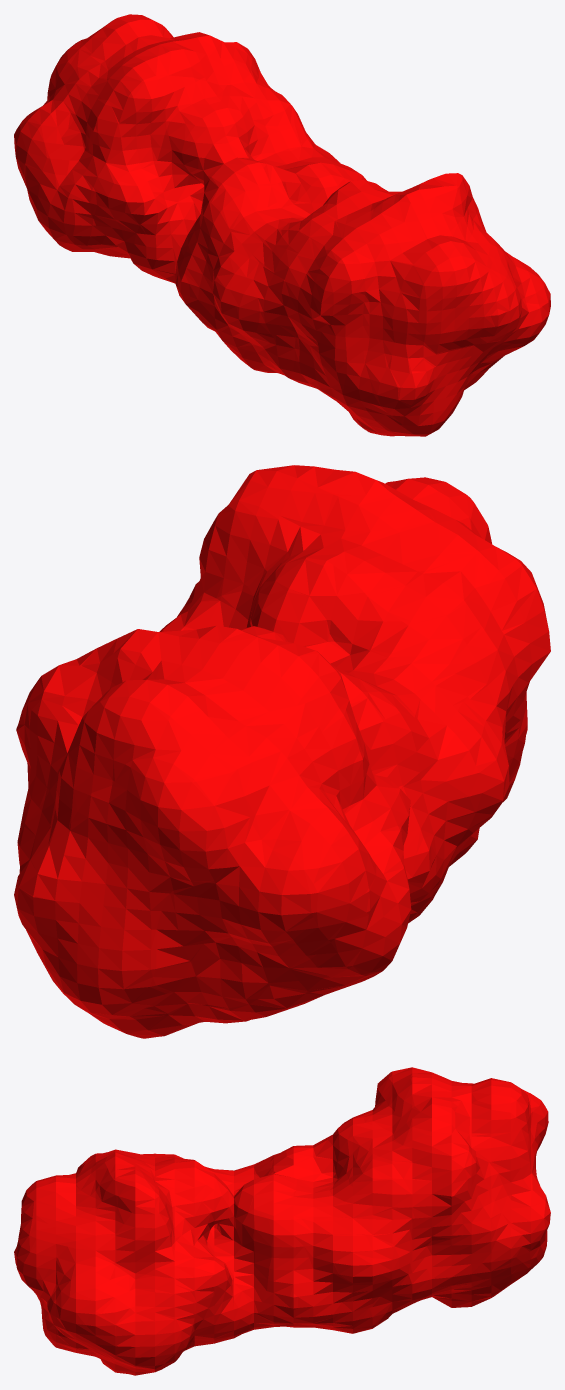
File: ybiB_coarse.dae
The picture shows the model from 3 angles, top to bottom: view 1: azimuth 30°, elevation 25°; view 2: azimuth 150°, elevation 25°; view 3: azimuth 270°, elevation 25°; orthographic projection. The views are drawn at different scales.
Visible parts, largest first — view 1: ybiB; view 2: ybiB; view 3: ybiB.
Part boxes in pixels (left/top/right/bottom): ybiB: left=14, top=14, right=550, bottom=436; ybiB: left=14, top=465, right=550, bottom=1038; ybiB: left=14, top=1067, right=550, bottom=1375.
Size of the model in its own units: 66.14 by 57.21 by 105.
